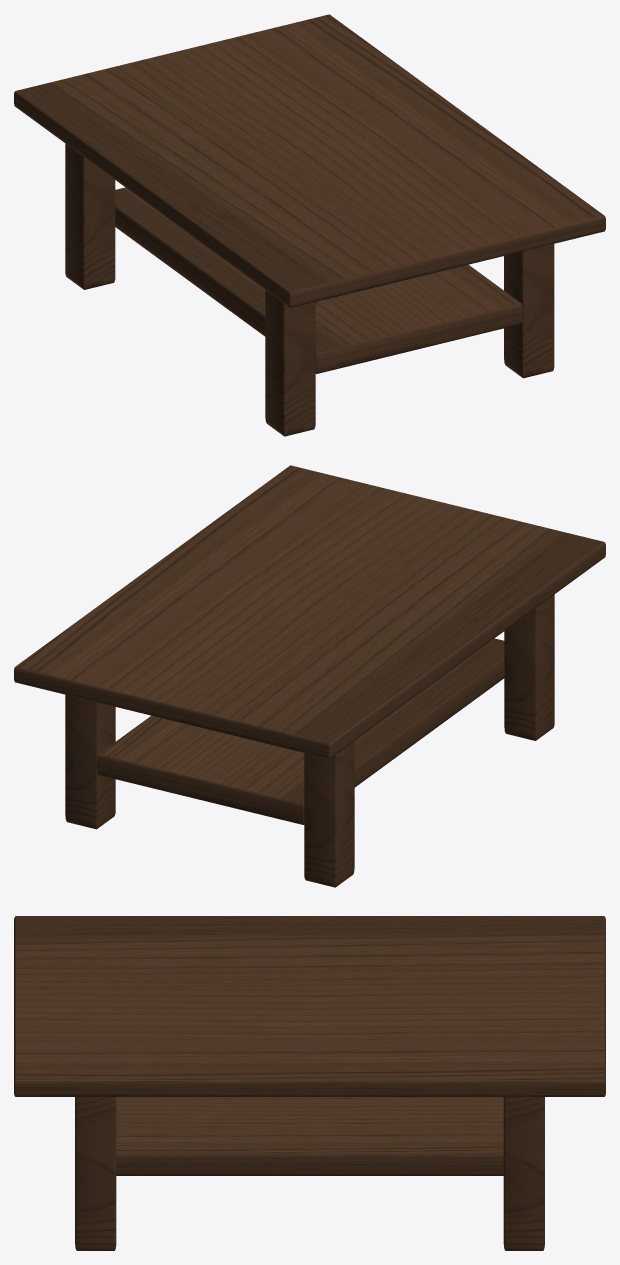
The model's file is coffeetable.fbx.
3 renders of one model, top to bottom at view 1: azimuth 30°, elevation 25°; view 2: azimuth 150°, elevation 25°; view 3: azimuth 270°, elevation 25°, orthographic. The views are drawn at different scales.
Parts seen in each view (by area): view 1: Cube.006, Cube.004, Cube.001, Cube.002, Cube; view 2: Cube.006, Cube.004, Cube.002, Cube.001, Cube.003; view 3: Cube.006, Cube.004, Cube, Cube.003.
Part boxes in pixels (x1,y1,x2,y2): Cube.006: (14, 14, 605, 307); Cube.004: (115, 187, 522, 373); Cube.001: (265, 290, 315, 436); Cube.002: (65, 143, 115, 289); Cube: (504, 244, 554, 378); Cube.006: (14, 465, 605, 758); Cube.004: (97, 638, 504, 824); Cube.002: (304, 741, 354, 887); Cube.001: (504, 594, 554, 740); Cube.003: (65, 694, 115, 829); Cube.006: (14, 916, 605, 1096); Cube.004: (116, 1097, 503, 1175); Cube: (75, 1097, 116, 1250); Cube.003: (503, 1097, 544, 1250).
Bounding box in the file's own units: 428 × 220 × 647.
1 material, 1 textured.
